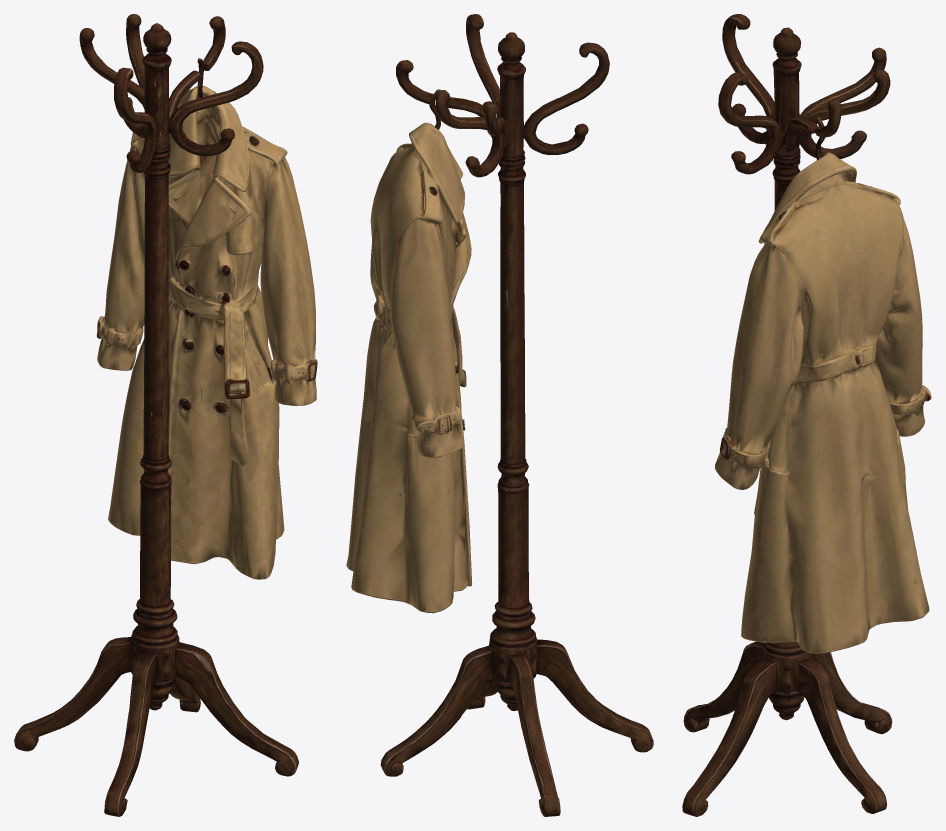
File: coatrack.glb
3 renders of one model, left to right at view 1: azimuth 30°, elevation 25°; view 2: azimuth 150°, elevation 25°; view 3: azimuth 270°, elevation 25°, orthographic. The views are drawn at different scales.
Bounding box in the file's own units: 0.6543 × 1.9 × 0.5769.
Materials: 1 (1 with a texture image).
